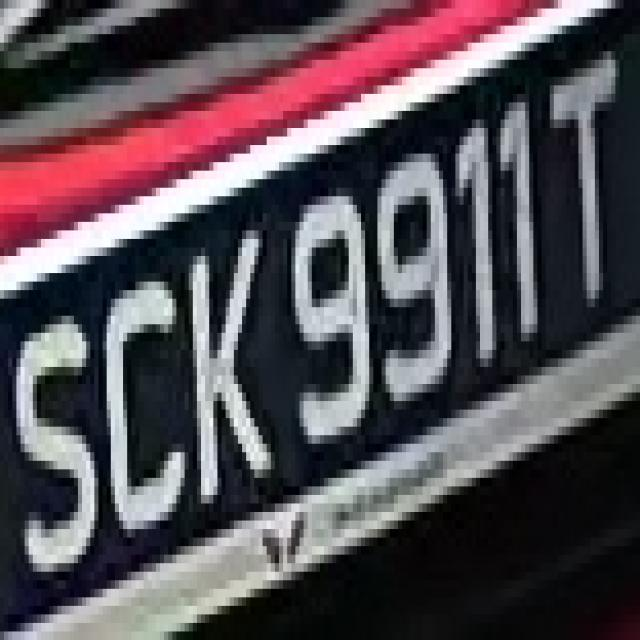1: (488, 102, 546, 376), (452, 102, 501, 392)
9: (287, 179, 382, 478), (365, 145, 447, 427)
C: (102, 264, 193, 572)
K: (172, 230, 271, 520)
S: (8, 298, 99, 588)
T: (542, 43, 628, 324)
